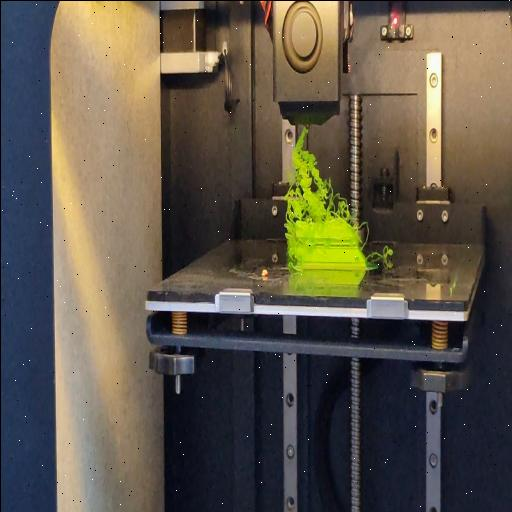spaghetti: (280, 130, 352, 222), (283, 223, 293, 271), (355, 216, 369, 250), (369, 246, 396, 255)
